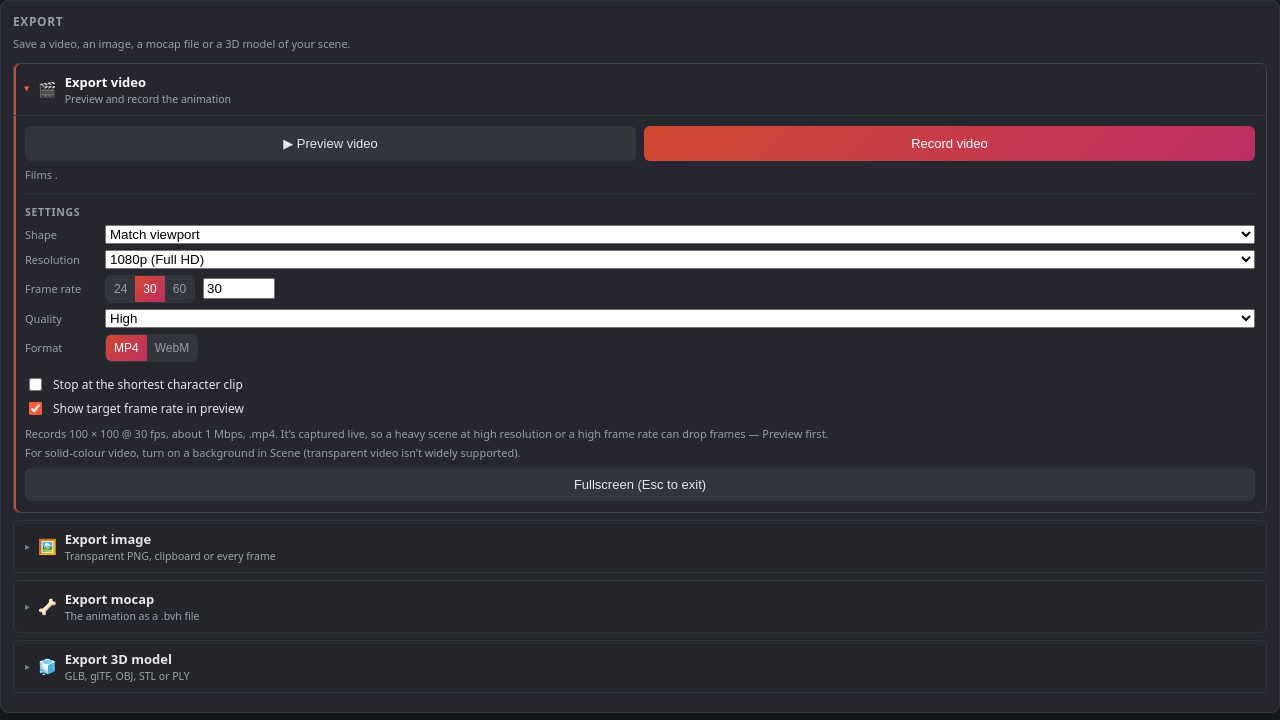
it: Export panel — custom frame rate › accepts a custom FPS and keeps the preset buttons in sync
This screenshot has width=1280, height=720.
Replace the text in the number field named "Custom FPS" with "48": (239, 288) [203,278,275,299]
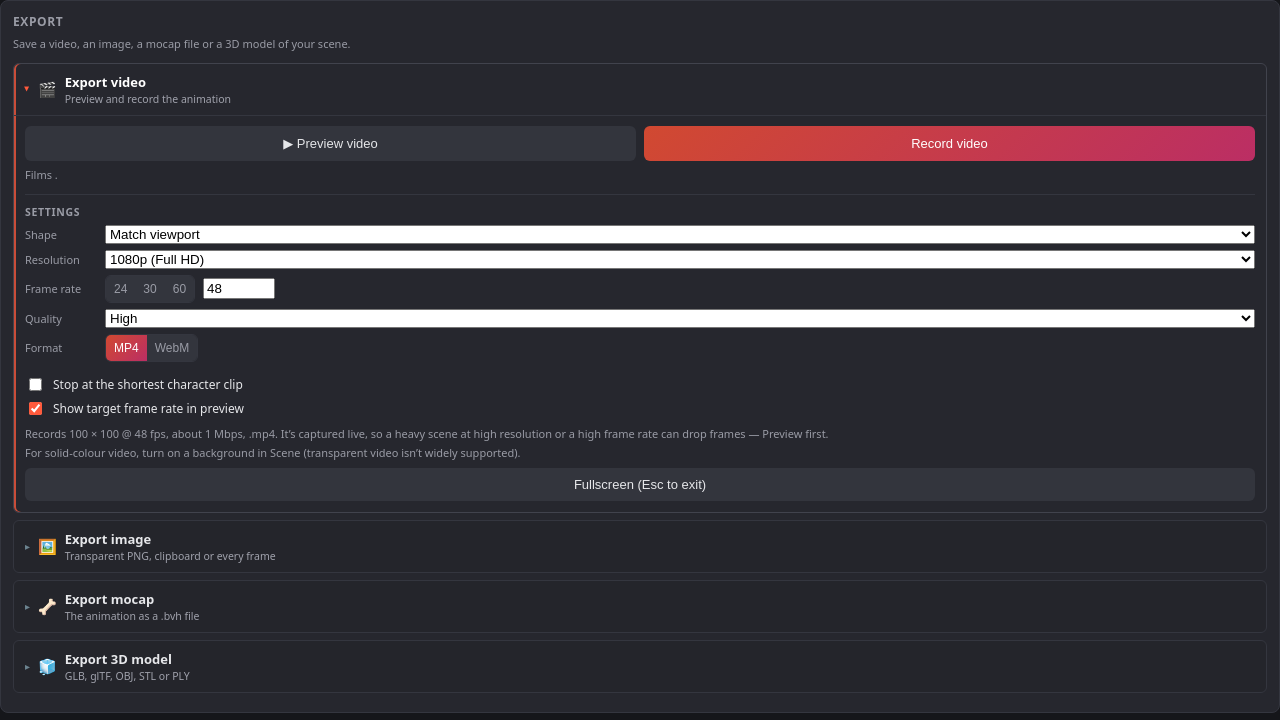
Replace the text in the number field named "Custom FPS" with "29.97": (239, 288) [203,278,275,299]
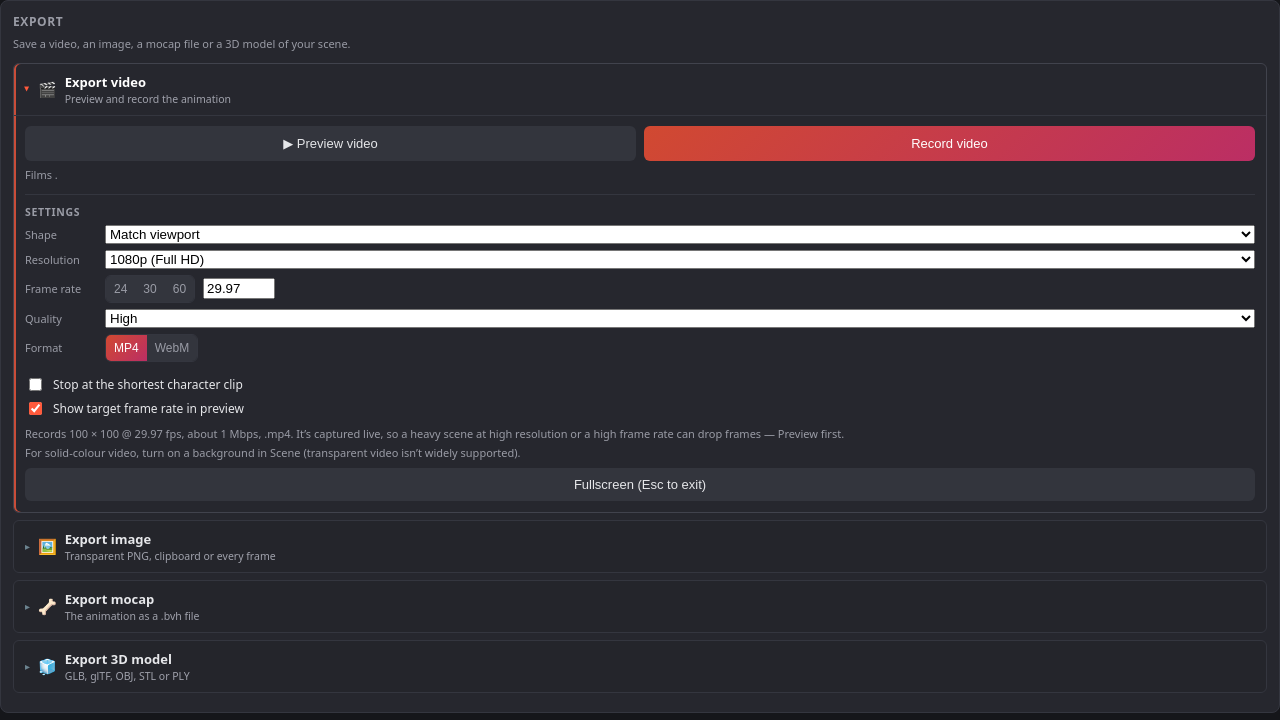
Result: the text "29.97 fps, about" is shown at [25,426,844,440]
Click the button "24": (121, 288) [106,276,135,302]
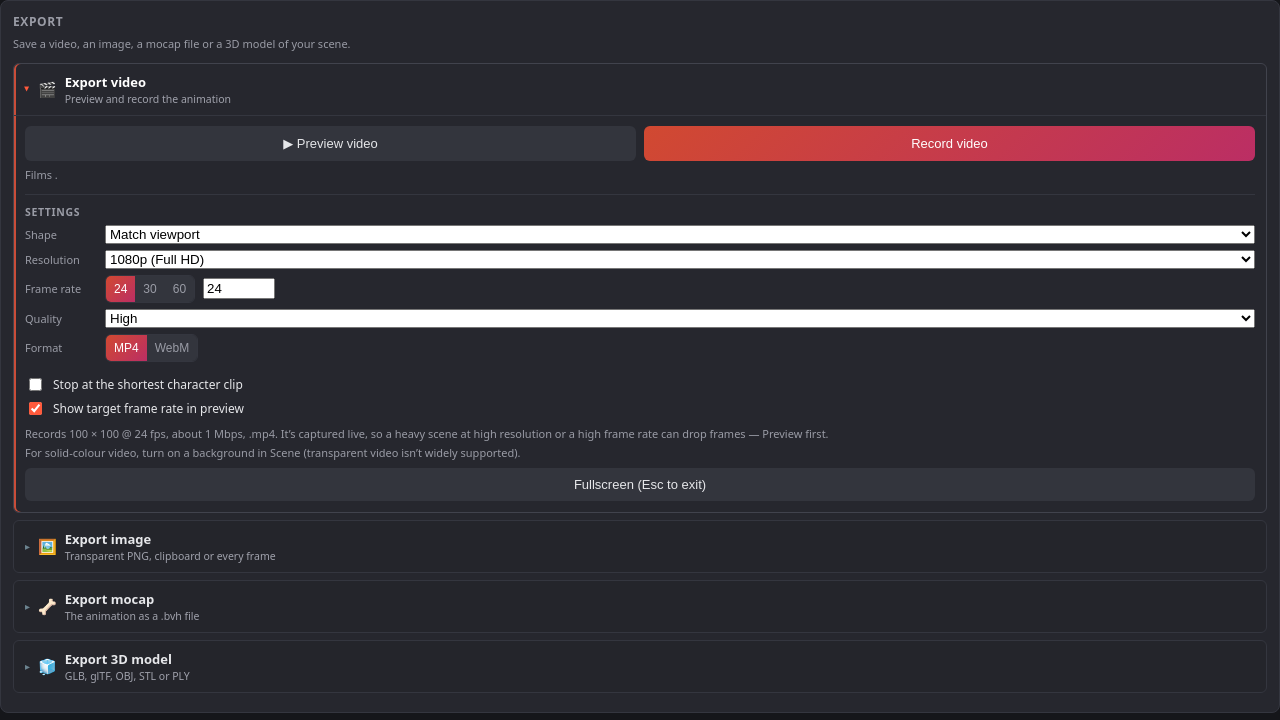
Result: the number field named "Custom FPS" holds "24" at [203,278,275,299]
